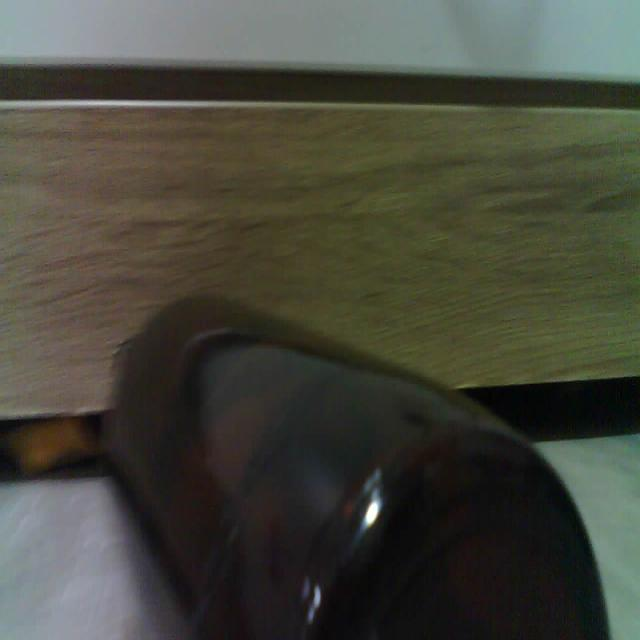bottle: (102, 297, 610, 639)
